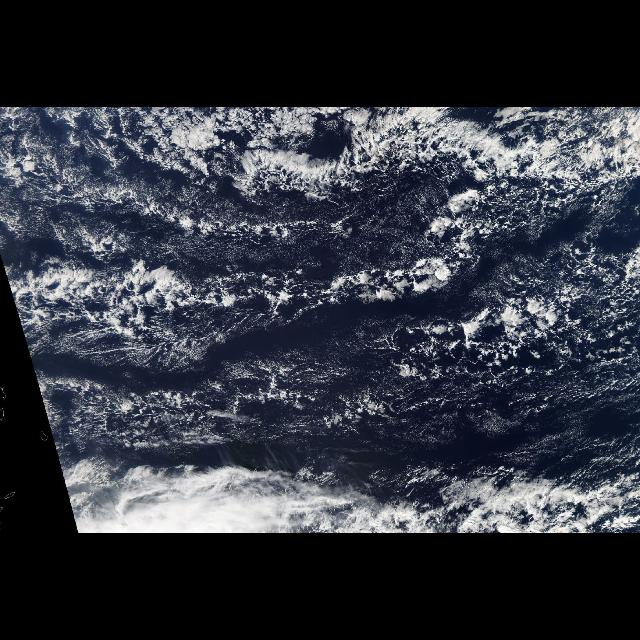Fish: (207, 116, 506, 216)
Gravel: (378, 300, 640, 414), (450, 439, 640, 483)
Sugar: (21, 266, 510, 356)
